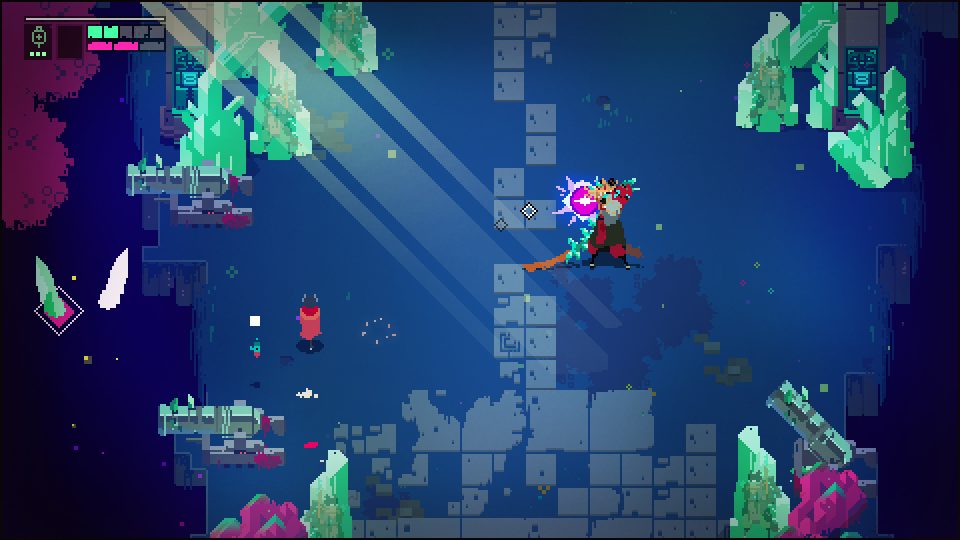hanged_crys: (29, 257, 64, 318)
hanged_man: (573, 177, 646, 279)
hanged_shot: (566, 182, 600, 216)
player: (301, 291, 324, 352)
